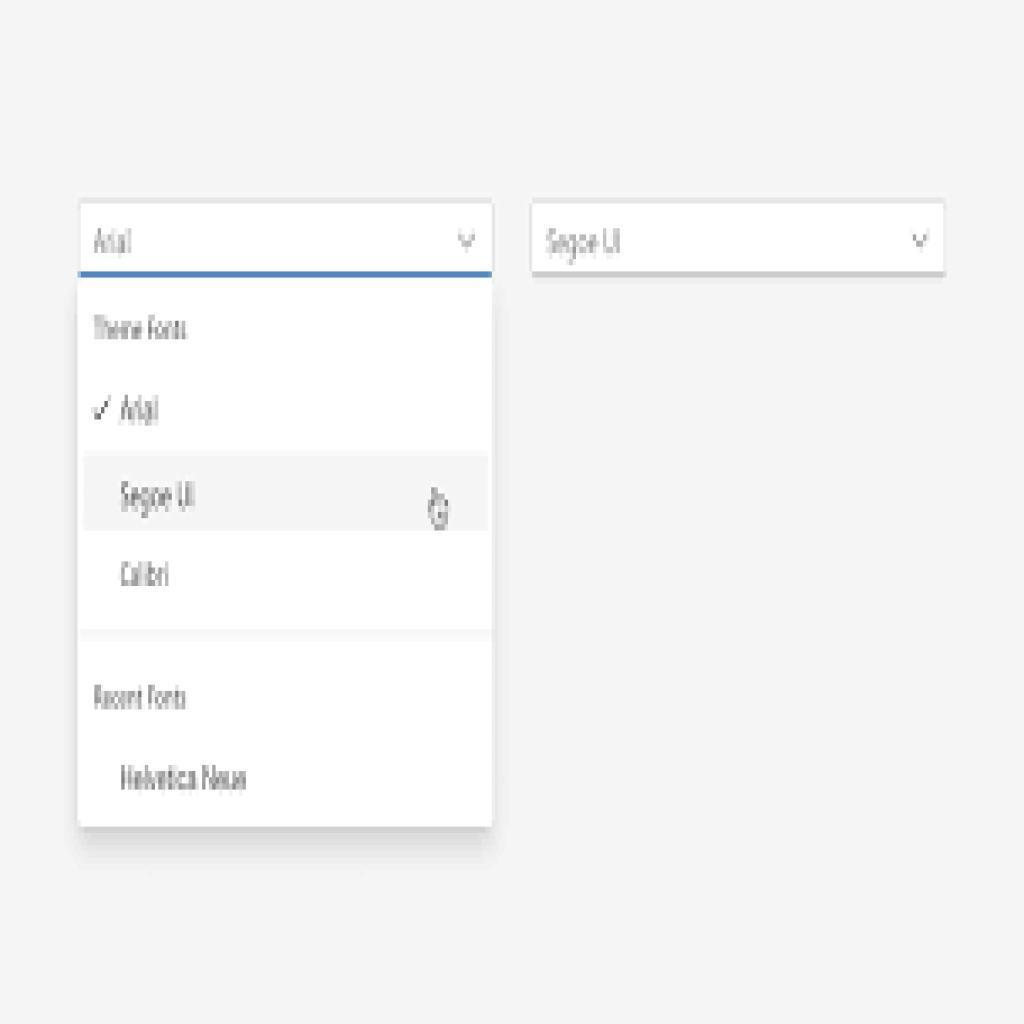dropdown: (530, 200, 953, 278), (74, 206, 493, 281)
